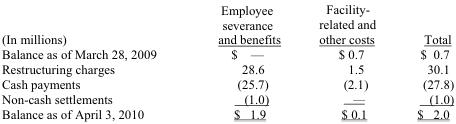table: (1, 0, 453, 121)
table column: (1, 0, 186, 121), (186, 0, 299, 121), (299, 0, 395, 121), (395, 0, 453, 121)
table column header: (1, 0, 453, 46)
table row: (1, 0, 453, 46), (1, 105, 453, 121), (1, 46, 453, 61), (1, 75, 453, 90), (1, 90, 453, 105), (1, 61, 453, 75)
